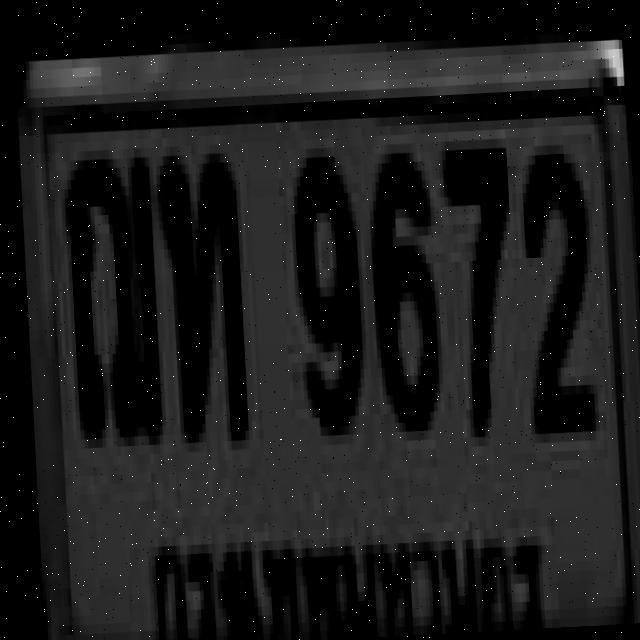2: (516, 139, 592, 420)
21ChorChoe: (59, 144, 162, 436)
32ThorThaHan: (155, 143, 245, 434)
6: (362, 143, 438, 424)
7: (438, 134, 516, 424)
9: (288, 146, 363, 428)
Bangkok: (143, 498, 553, 640)
